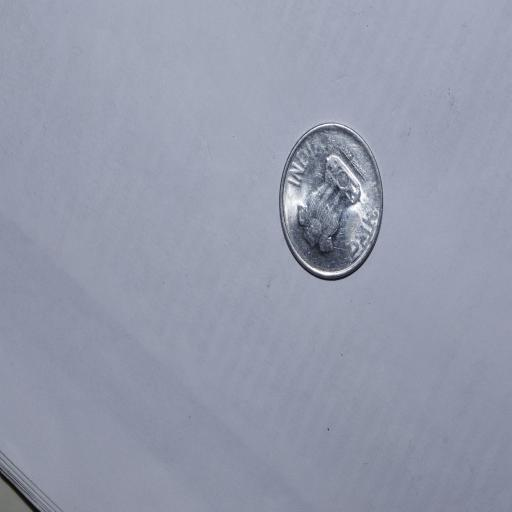rupee2: (278, 123, 383, 280)
